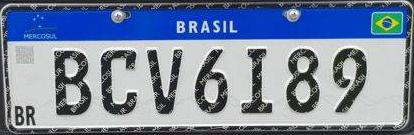Placa_mercosul_carro: (1, 1, 414, 135)
